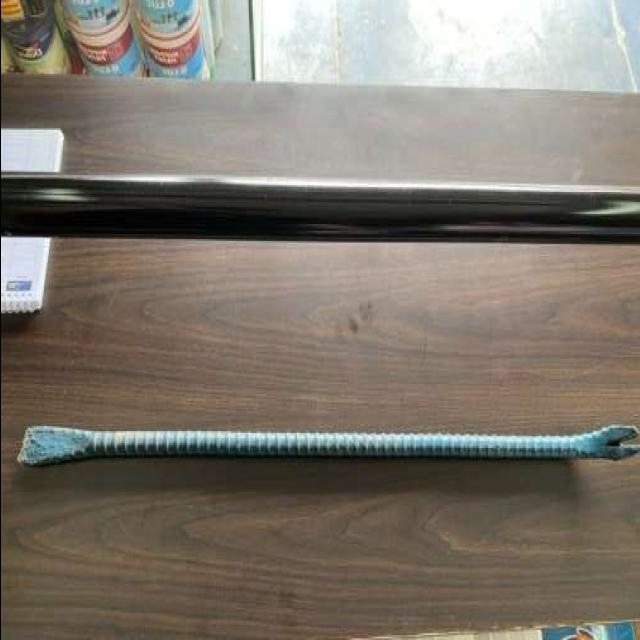Linggis: (21, 419, 640, 462)
